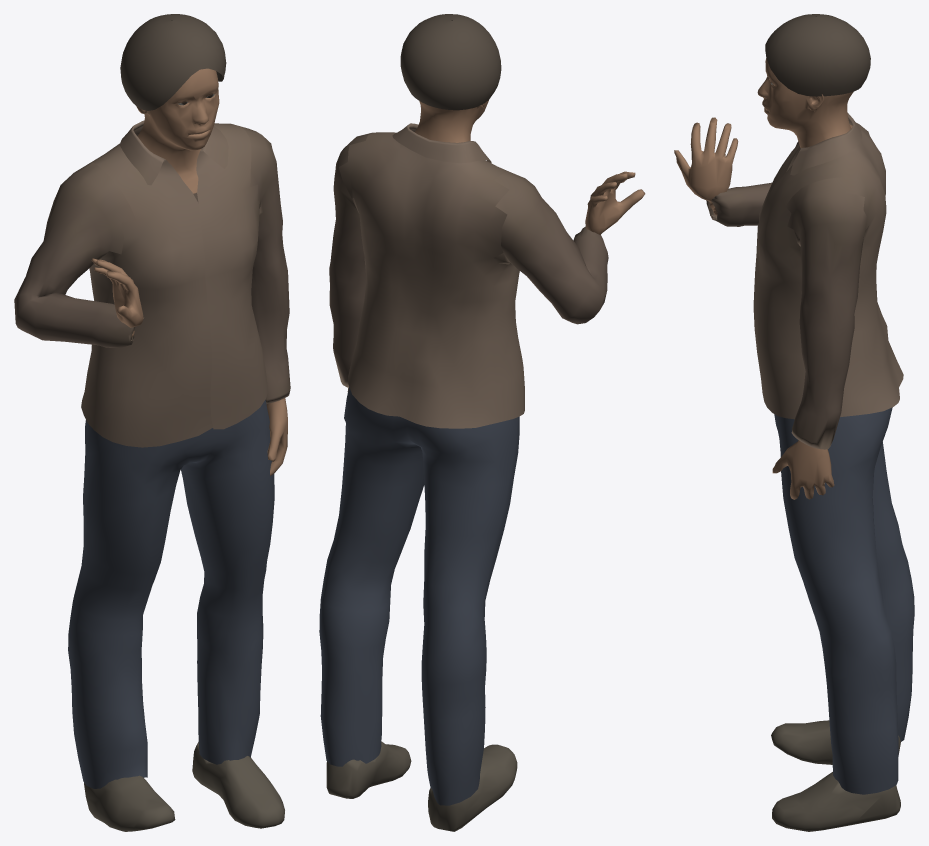
Rendered from participant-17-middle.glb.
The picture shows the model from 3 angles, left to right: view 1: azimuth 30°, elevation 25°; view 2: azimuth 150°, elevation 25°; view 3: azimuth 270°, elevation 25°; orthographic projection. The views are drawn at different scales.
Parts seen in each view (by area): view 1: Participant anatomy and ordinary clothes; view 2: Participant anatomy and ordinary clothes; view 3: Participant anatomy and ordinary clothes.
Boxes of the visible parts, bbox=[...] form: Participant anatomy and ordinary clothes: bbox=[14, 14, 290, 831]; Participant anatomy and ordinary clothes: bbox=[319, 14, 645, 831]; Participant anatomy and ordinary clothes: bbox=[674, 14, 914, 831].
Size of the model in its own units: 0.6222 by 1.75 by 0.4949.
